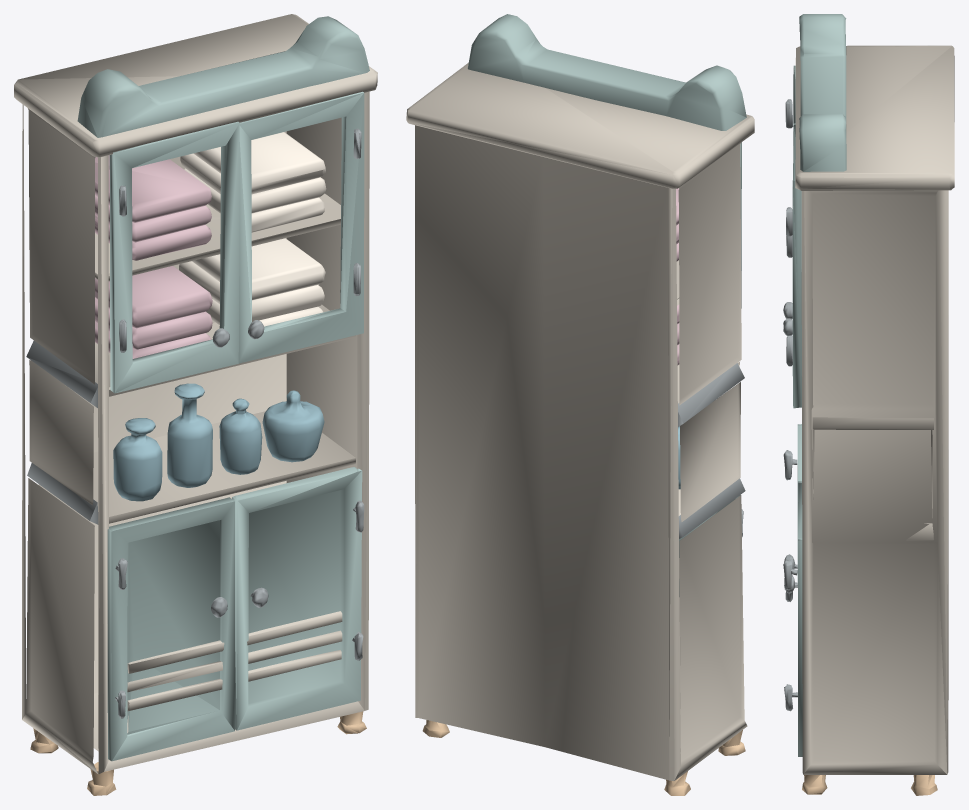
Rendered from bath_linen_cabinet.glb.
3 renders of one model, left to right at view 1: azimuth 30°, elevation 25°; view 2: azimuth 150°, elevation 25°; view 3: azimuth 270°, elevation 25°, orthographic. The views are drawn at different scales.
Bounding box in the file's own units: 1.12 × 2.65 × 0.6164.
